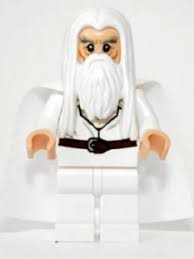gandalf gray: (9, 10, 185, 244)
